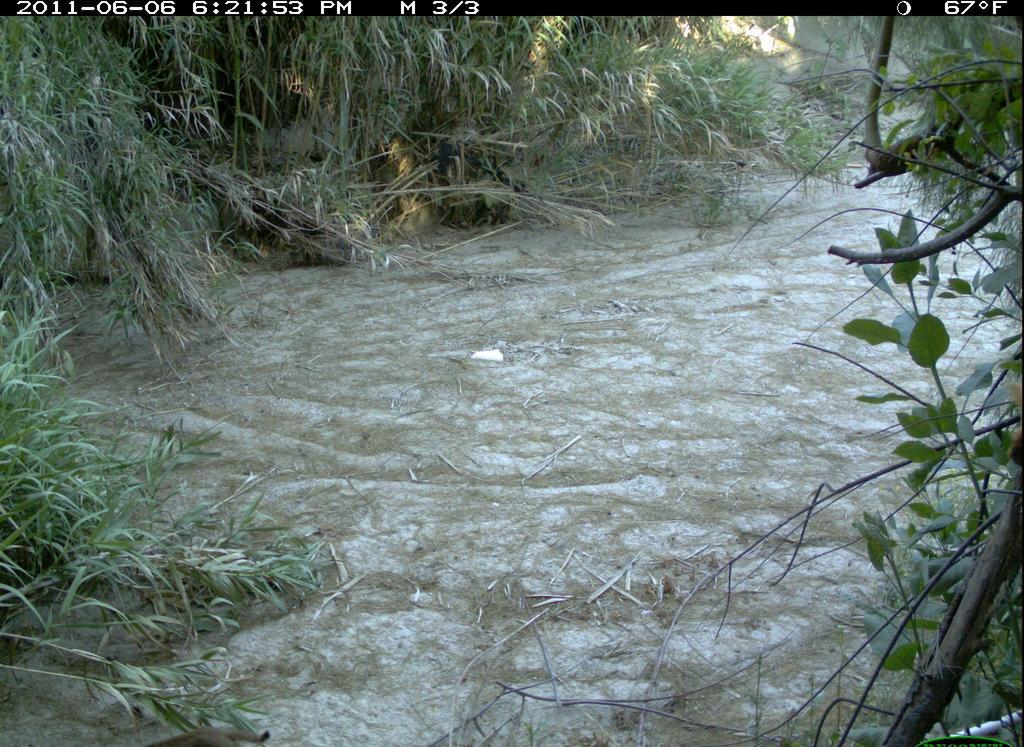bobcat: (121, 717, 277, 747)
